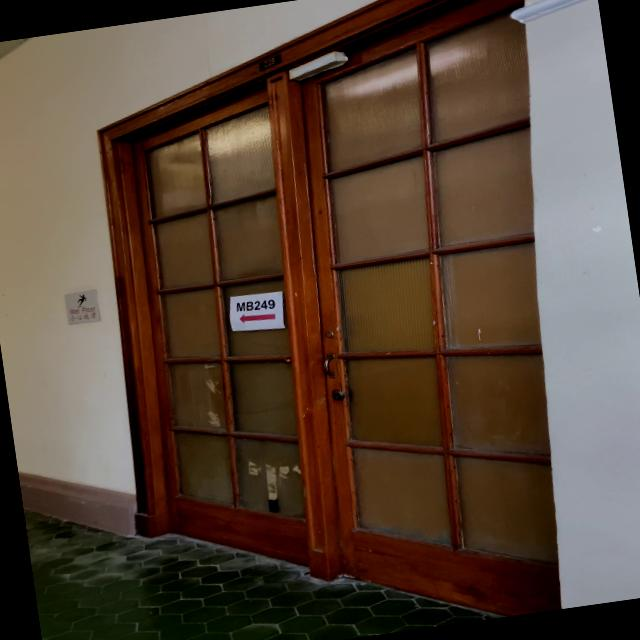room228: (255, 52, 284, 72)
